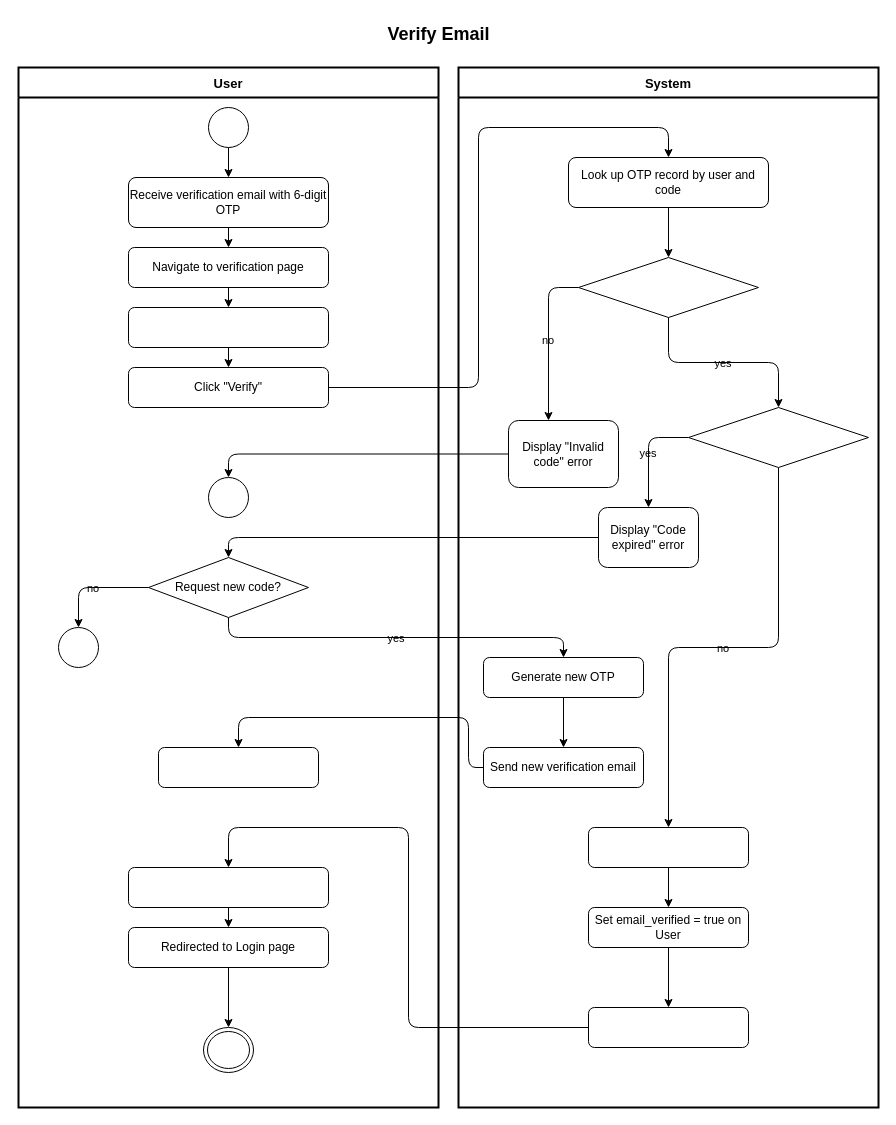
The diagram is 896 pixels wide and 1125 high, and some of its shapes have lost their labels. Here are the shapes that lost their labels. From the top down, the centre of each, then its label:
[668,287]: OTP record found?
[228,327]: Enter OTP code
[778,437]: OTP expired (> 10 min)?
[238,767]: Receive new OTP
[668,847]: Mark OTP as used
[228,887]: See "Email verified!" confirmation
[668,1027]: Return success response
